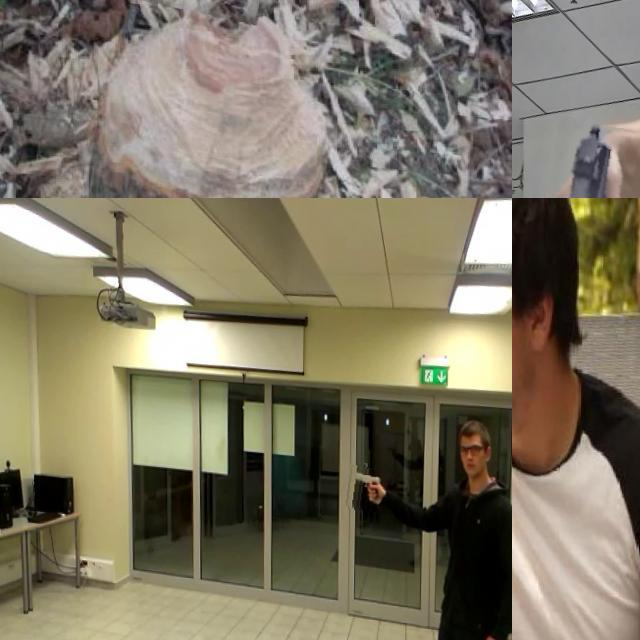-: (4, 0, 285, 151), (512, 512, 548, 640)
gun-knife-thesis - v11 Yolov5 augmented: (527, 109, 633, 198), (346, 458, 390, 505)
